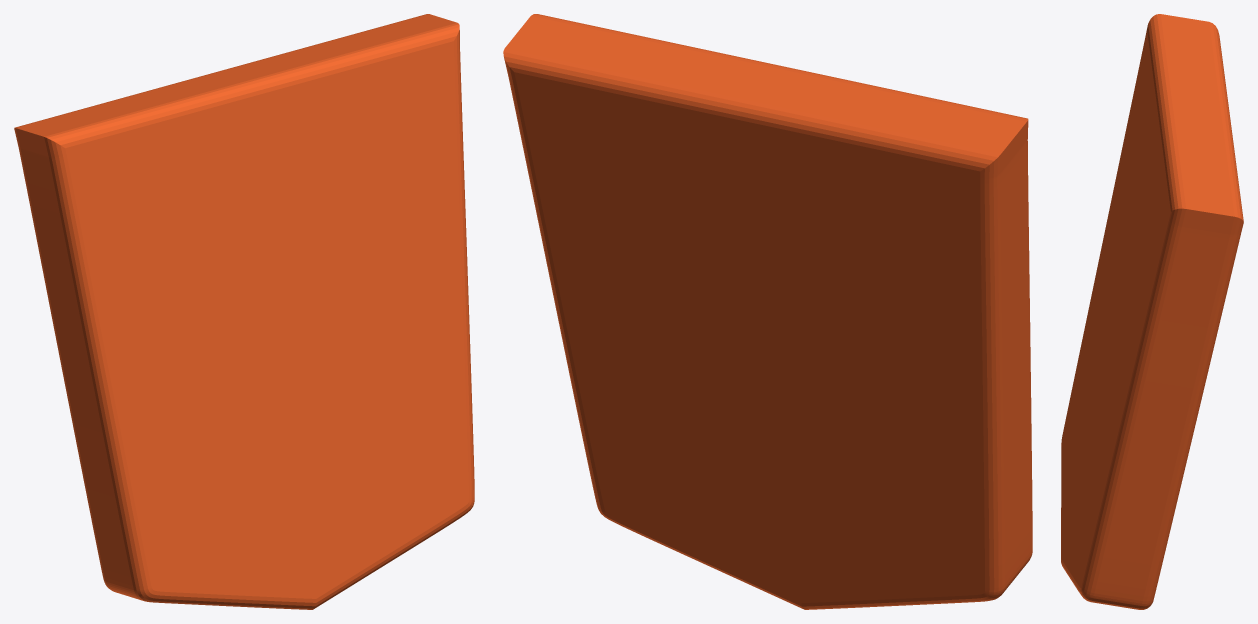
File: html.glb
The picture shows the model from 3 angles, left to right: view 1: azimuth 30°, elevation 25°; view 2: azimuth 150°, elevation 25°; view 3: azimuth 270°, elevation 25°; orthographic projection. The views are drawn at different scales.
Visible parts, largest first — view 1: Curve; view 2: Curve; view 3: Curve.
Boxes of the visible parts, <box> form: Curve: <box>14,14,474,609</box>; Curve: <box>503,14,1032,609</box>; Curve: <box>1061,14,1243,609</box>.
Bounding box in the file's own units: 0.4586 × 0.5108 × 0.1808.
